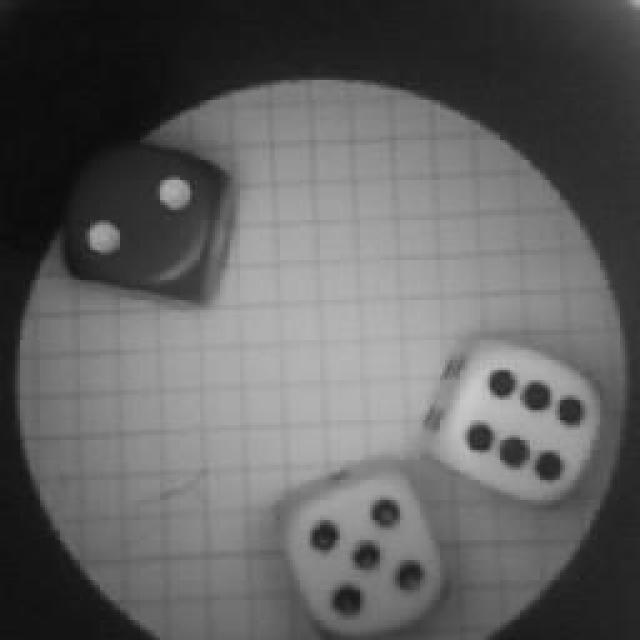dice_2: (62, 135, 230, 297)
dice_5: (278, 465, 458, 640)
dice_6: (432, 338, 608, 508)
